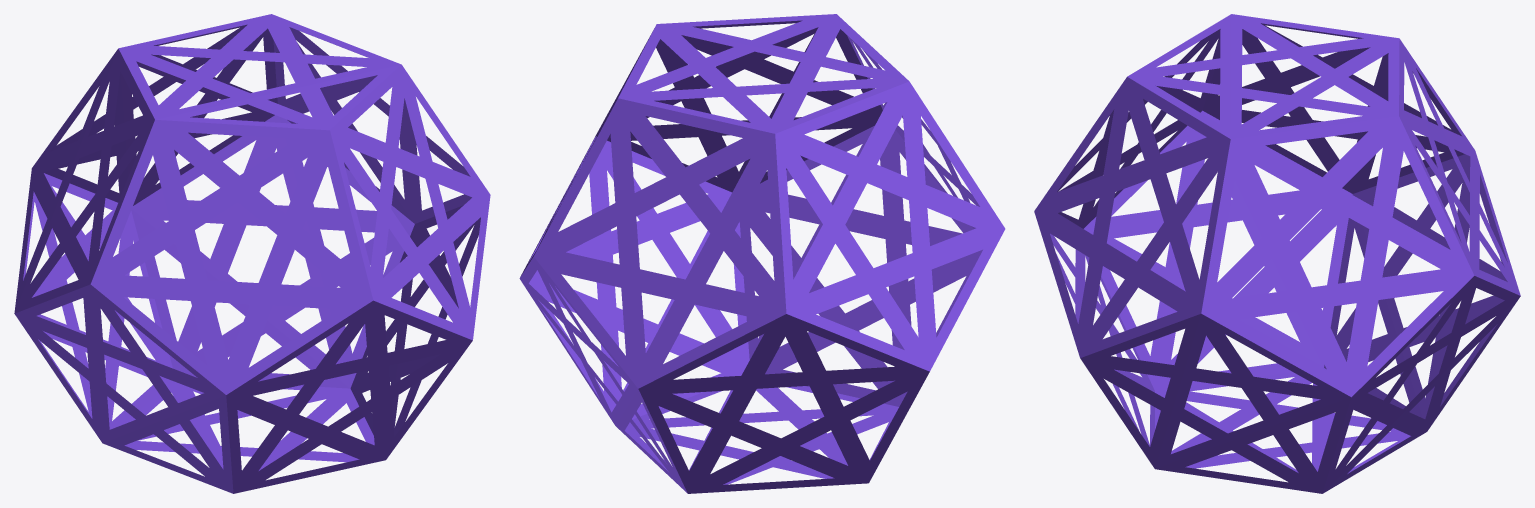
File: color-dodecahedron.glb
3 renders of one model, left to right at view 1: azimuth 30°, elevation 25°; view 2: azimuth 150°, elevation 25°; view 3: azimuth 270°, elevation 25°, orthographic. The views are drawn at different scales.
Parts seen in each view (by area): view 1: Icosphere; view 2: Icosphere; view 3: Icosphere.
Boxes of the visible parts, bbox=[...] form: Icosphere: bbox=[14, 14, 490, 493]; Icosphere: bbox=[519, 14, 1005, 493]; Icosphere: bbox=[1034, 14, 1520, 493].
Size of the model in its own units: 1.49 by 1.28 by 1.56.
